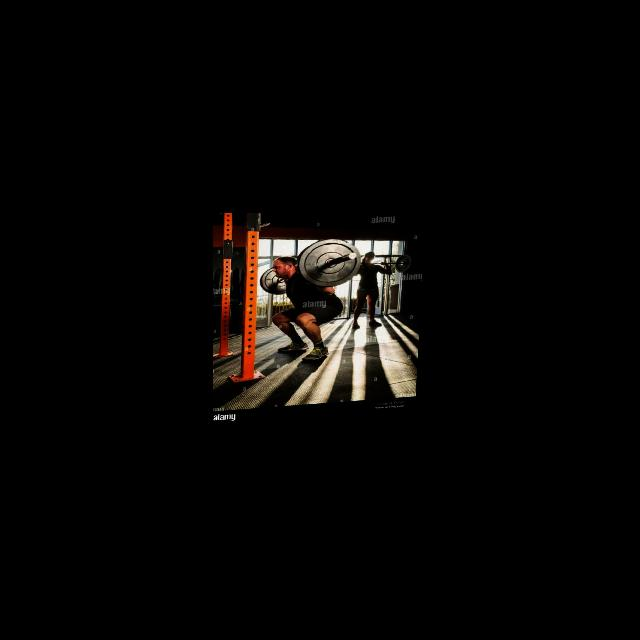barbell: (294, 236, 364, 292)
